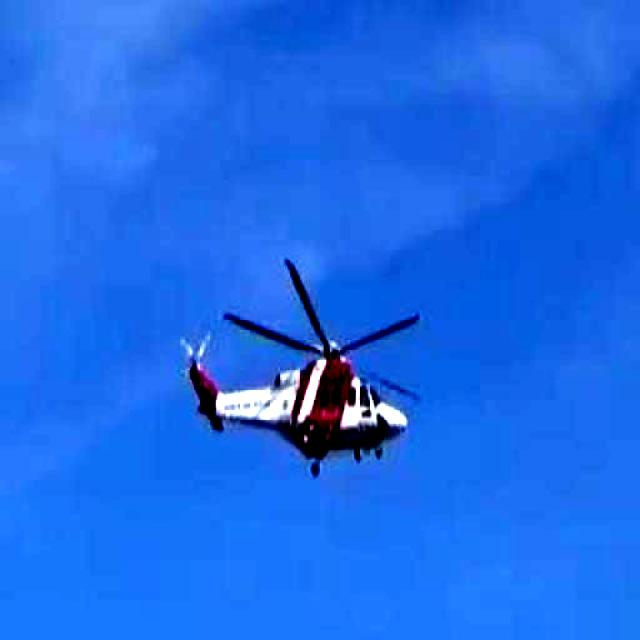drone: (174, 244, 464, 490)
